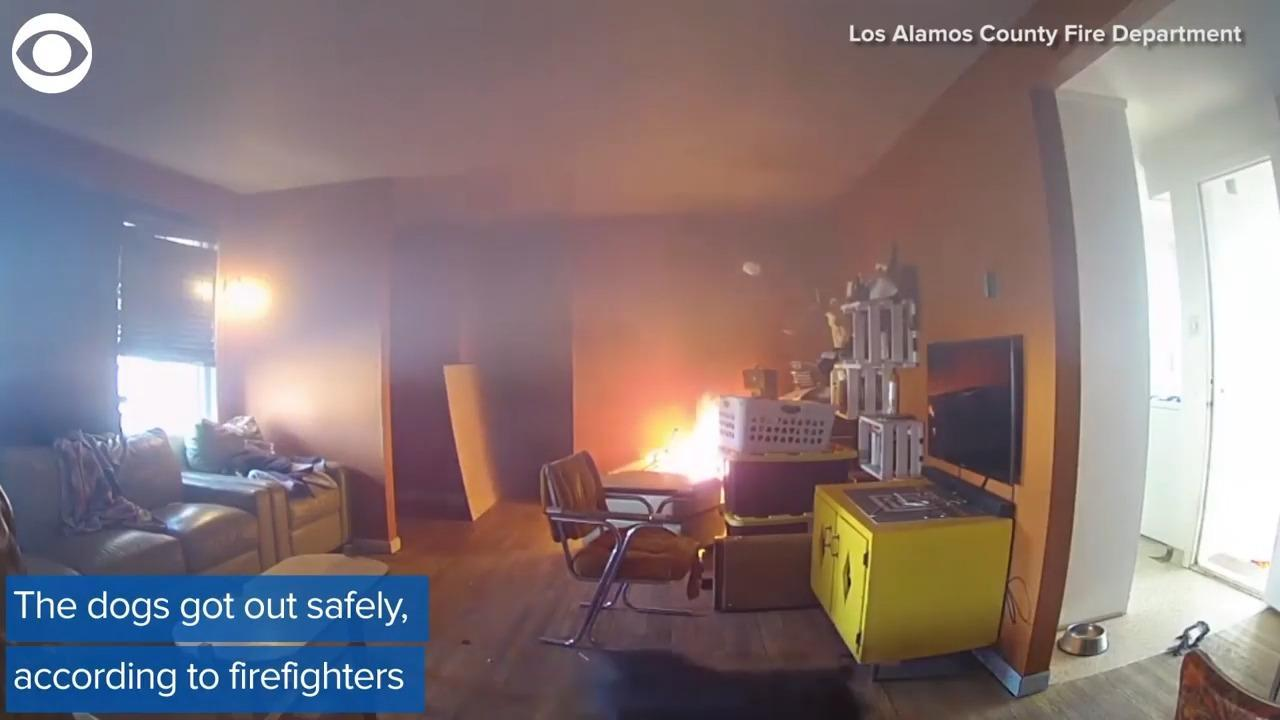fire: (634, 385, 728, 482)
